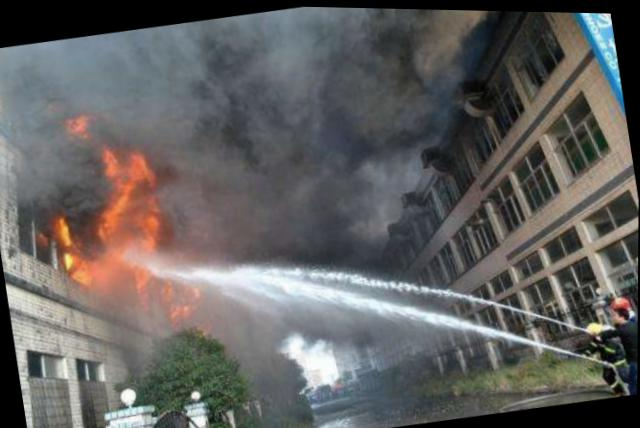fire: (29, 98, 193, 311)
